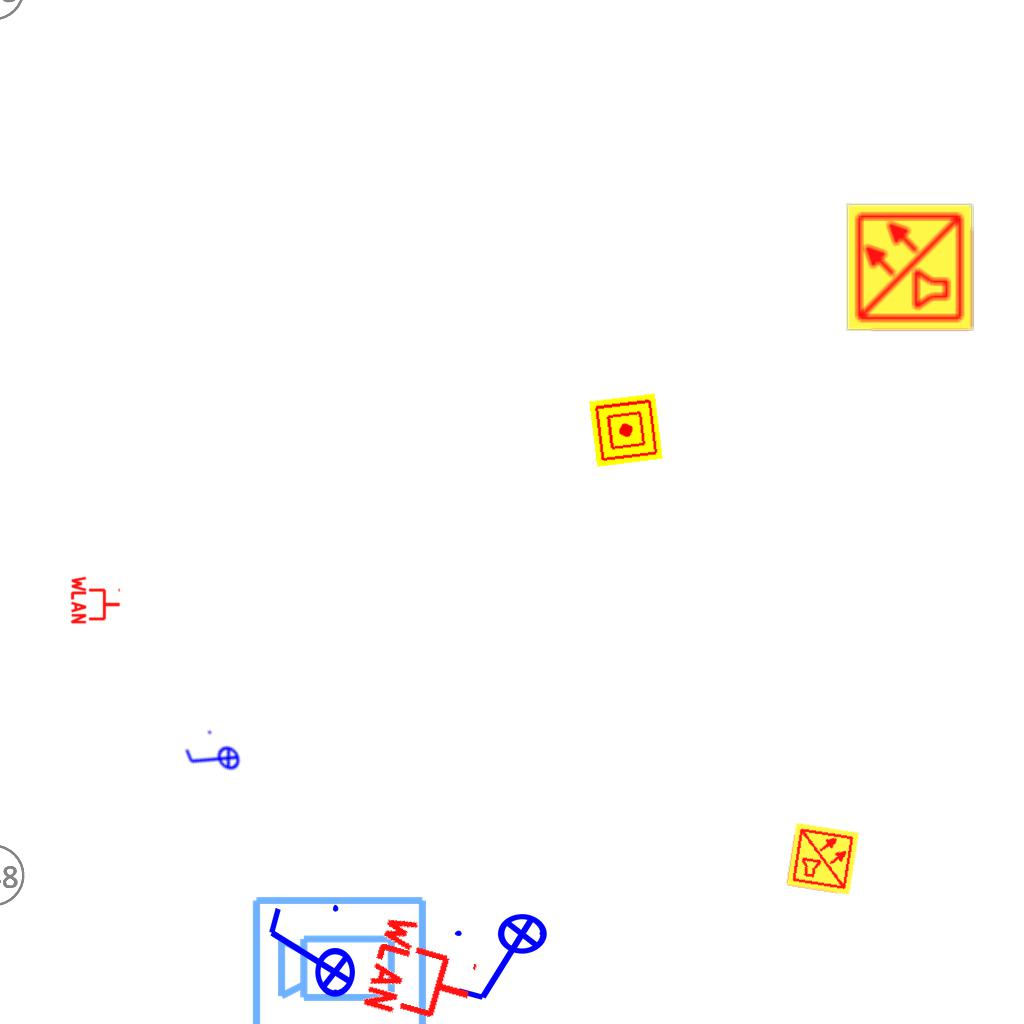Ausschalter_beleuchtet: (449, 912, 561, 1008), (261, 899, 357, 1011), (176, 722, 250, 796)
KFO_Kamera_mit_Festobjektiv: (249, 890, 431, 1024)
NAM-Nichtautomatischer_Melder: (589, 393, 663, 467)
OKW_Multisensormelder_(Kombination_optischer_Rauch-Kahlenmonoxid_Waerme-Melder): (844, 201, 976, 333), (785, 821, 861, 897)
WLAN: (359, 908, 490, 1024), (70, 574, 122, 626)
